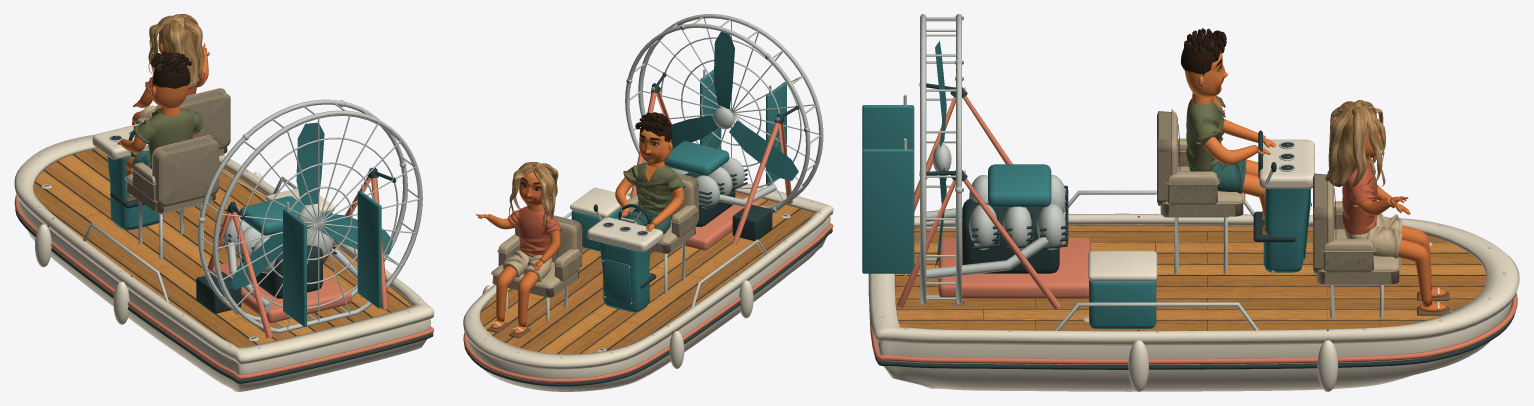
The model's file is airboat-couple-v6.glb.
3 renders of one model, left to right at view 1: azimuth 30°, elevation 25°; view 2: azimuth 150°, elevation 25°; view 3: azimuth 270°, elevation 25°, orthographic. The views are drawn at different scales.
Visible parts, largest first — view 1: Hull_cream, Hull_teak, Hull_chrome, Hull_teal, Hull_canvas, Hull_coral, Hull_rubber, Fan_teal, NinaHead_hairN, Barron_shirt, BarronHead_hairB, BarronHead_faceB (+2 smaller); view 2: Hull_cream, Hull_teak, Hull_chrome, Hull_teal, Hull_canvas, Hull_coral, Hull_rubber, Fan_teal, Nina_skinN, Barron_shirt, Nina_ninaShirt, NinaHead_hairN (+9 smaller); view 3: Hull_cream, Hull_teak, Hull_teal, Hull_chrome, Hull_coral, Hull_canvas, Hull_rubber, NinaHead_hairN, Nina_skinN, Barron_shirt, Nina_ninaShirt, Barron_skinB (+8 smaller).
Part boxes in pixels (x1,y1,x2,y2): Hull_cream: [14, 123, 434, 391]; Hull_teak: [33, 148, 411, 347]; Hull_chrome: [22, 99, 422, 348]; Hull_teal: [107, 155, 381, 326]; Hull_canvas: [124, 88, 230, 212]; Hull_coral: [14, 136, 433, 379]; Hull_rubber: [15, 122, 433, 383]; Fan_teal: [231, 122, 392, 289]; NinaHead_hairN: [148, 14, 204, 89]; Barron_shirt: [133, 109, 203, 165]; BarronHead_hairB: [151, 51, 191, 88]; BarronHead_faceB: [151, 73, 188, 108]; Hull_cream: [463, 182, 833, 391]; Hull_teak: [480, 192, 814, 353]; Hull_chrome: [469, 14, 823, 358]; Hull_teal: [571, 69, 786, 312]; Hull_canvas: [491, 173, 698, 297]; Hull_coral: [463, 90, 833, 382]; Hull_rubber: [464, 27, 832, 386]; Fan_teal: [670, 31, 798, 180]; Nina_skinN: [491, 204, 560, 334]; Barron_shirt: [623, 162, 685, 213]; Nina_ninaShirt: [508, 206, 561, 257]; NinaHead_hairN: [509, 162, 558, 223]; Hull_cream: [868, 139, 1519, 391]; Hull_teak: [895, 225, 1486, 330]; Hull_teal: [862, 105, 1310, 328]; Hull_chrome: [881, 14, 1506, 332]; Hull_coral: [869, 96, 1517, 364]; Hull_canvas: [1157, 109, 1401, 284]; Hull_rubber: [874, 17, 1515, 369]; NinaHead_hairN: [1325, 101, 1382, 187]; Nina_skinN: [1356, 159, 1446, 312]; Barron_shirt: [1186, 95, 1224, 171]; Nina_ninaShirt: [1342, 163, 1377, 234]; Barron_skinB: [1192, 92, 1275, 229].
Size of the model in its own units: 3.36 by 3.67 by 6.96.
28 materials, 15 textured.
